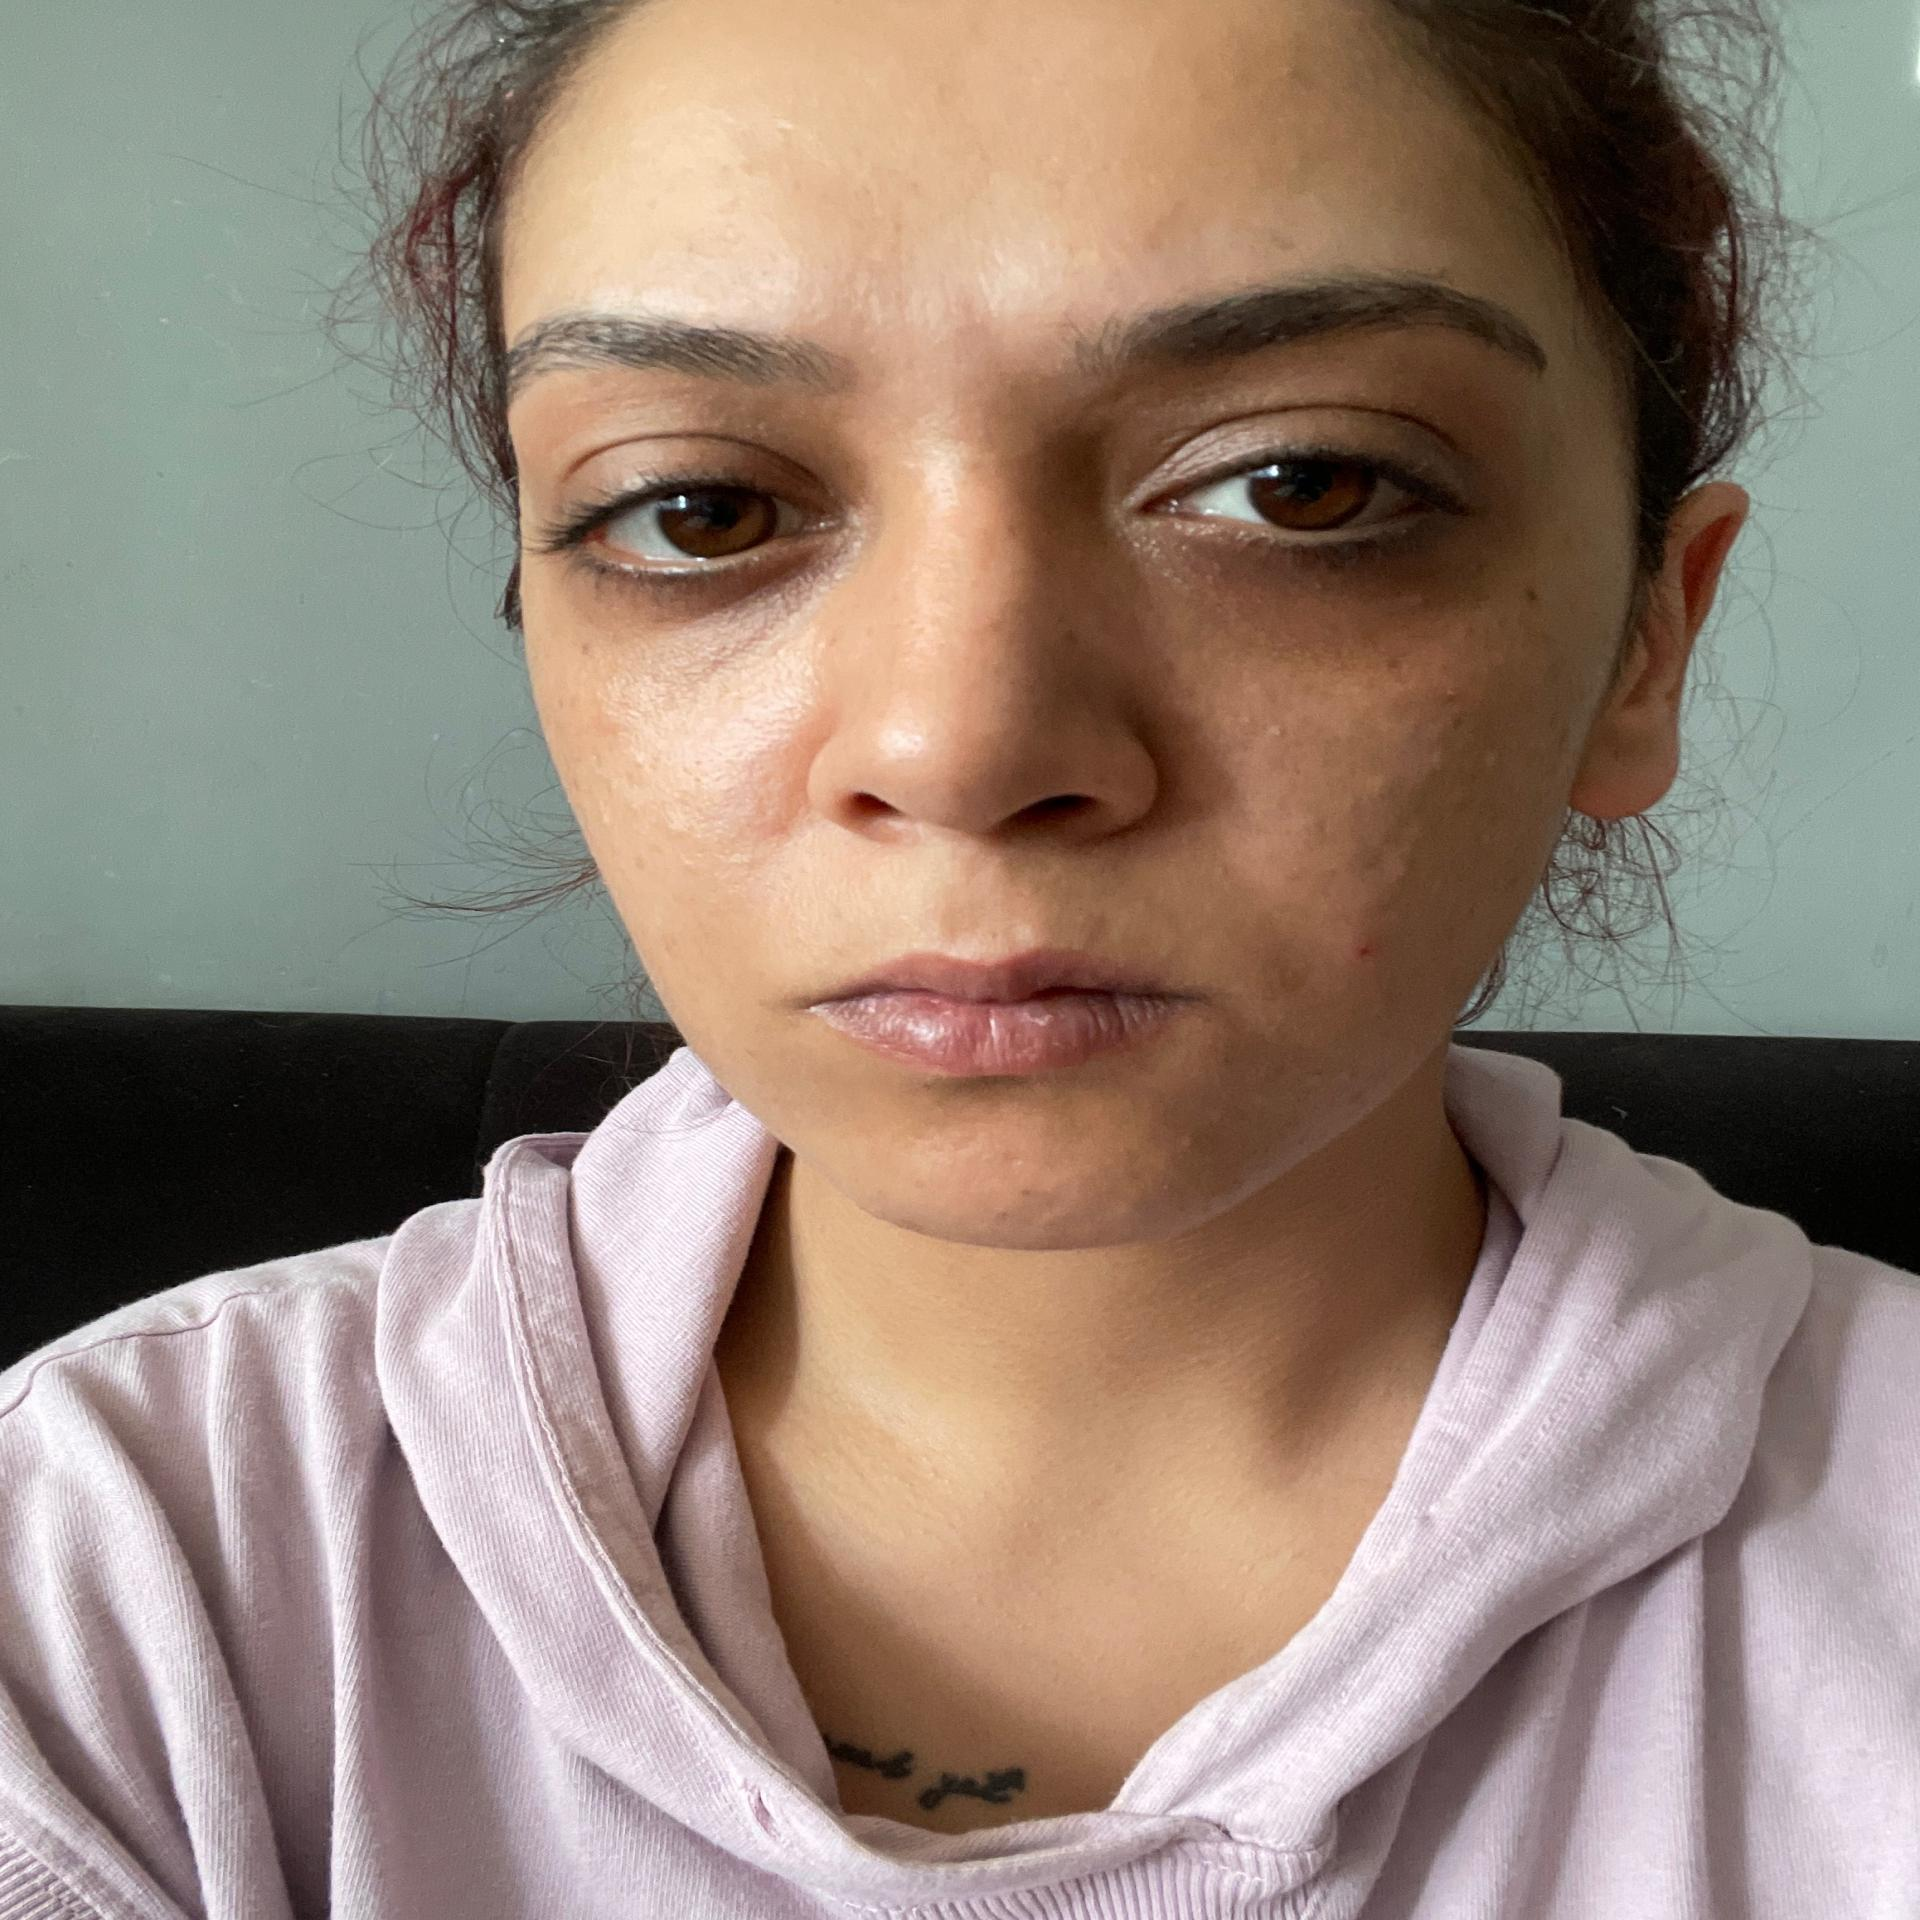Acne: (1380, 819, 1433, 883), (988, 1183, 1034, 1229), (1347, 767, 1393, 795), (1475, 738, 1510, 774), (1345, 935, 1387, 964), (1169, 1129, 1199, 1159), (1421, 744, 1459, 763), (1261, 721, 1296, 742), (1433, 673, 1461, 700), (1275, 62, 1301, 83)
Dark Circles: (1111, 513, 1502, 652), (526, 529, 856, 633)
Englarged Pores: (661, 693, 791, 858)
